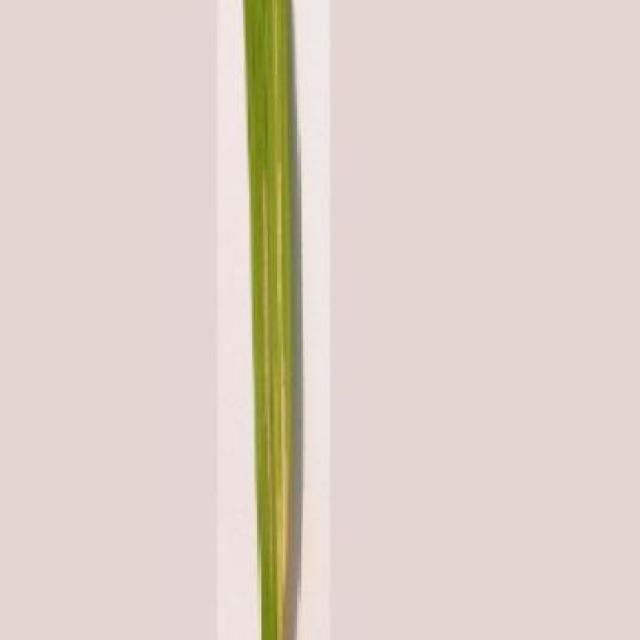Brown_Spot: (239, 0, 304, 640)
